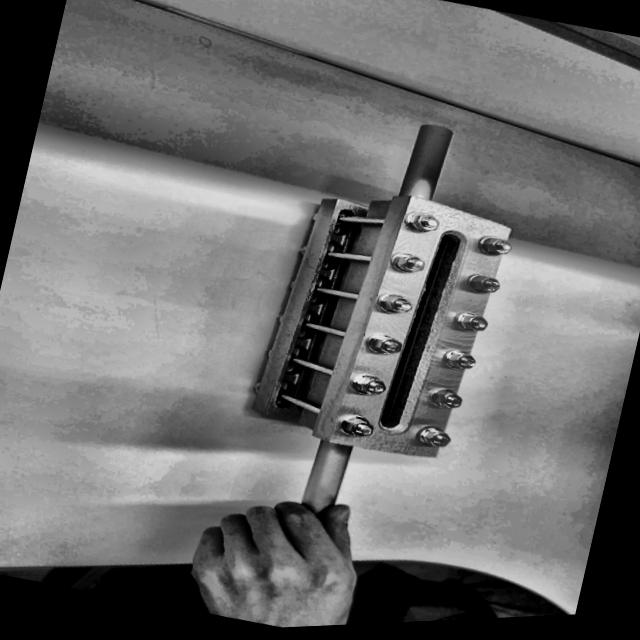ShuiWeiQi_12: (212, 78, 563, 548)
